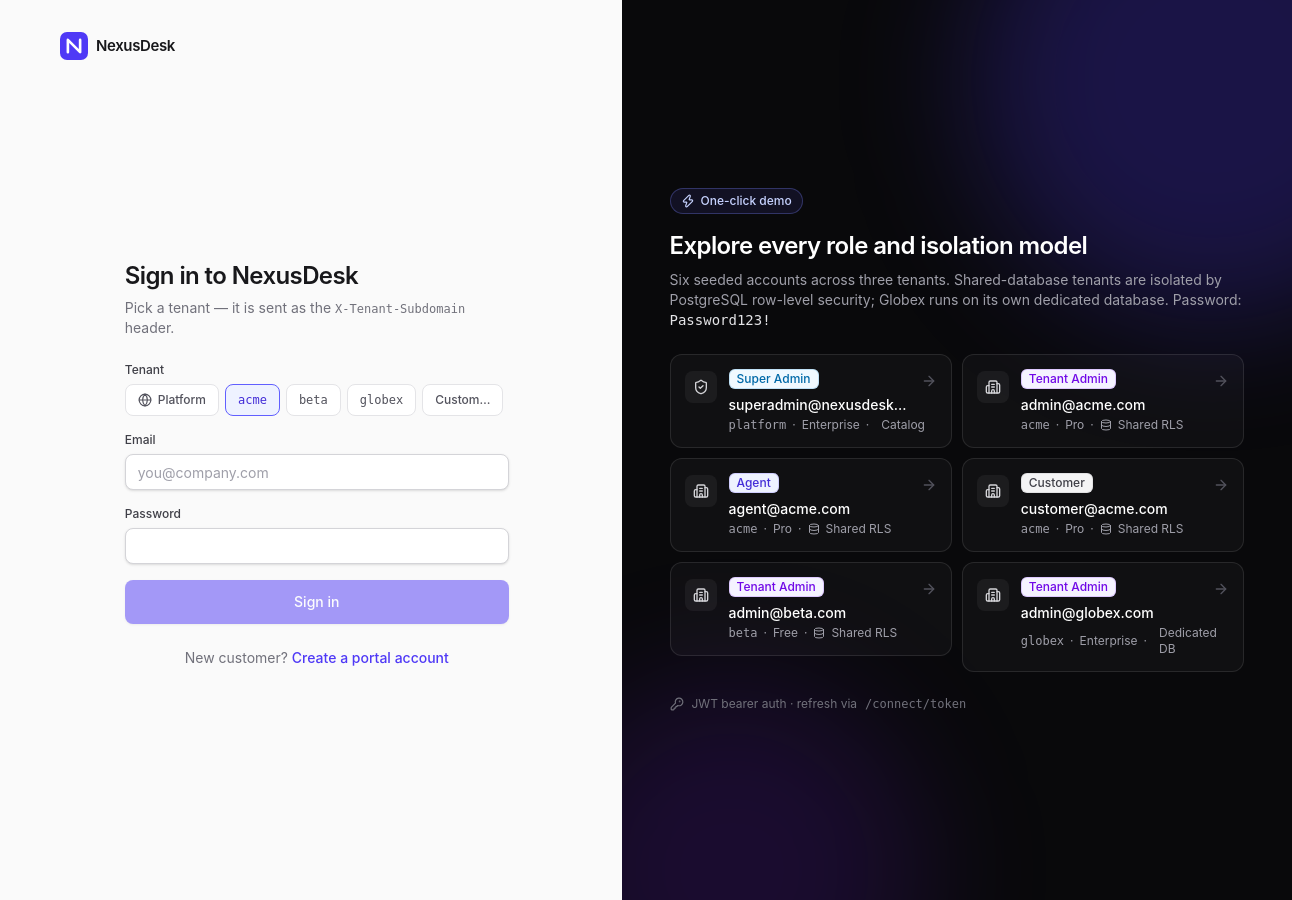
Test: Login flow › shows ProblemDetails inline when credentials are rejected
The image size is (1292, 900).
Type "admin@acme.com" into the field labelled "Email" at (317, 472), box [125,454,509,490]
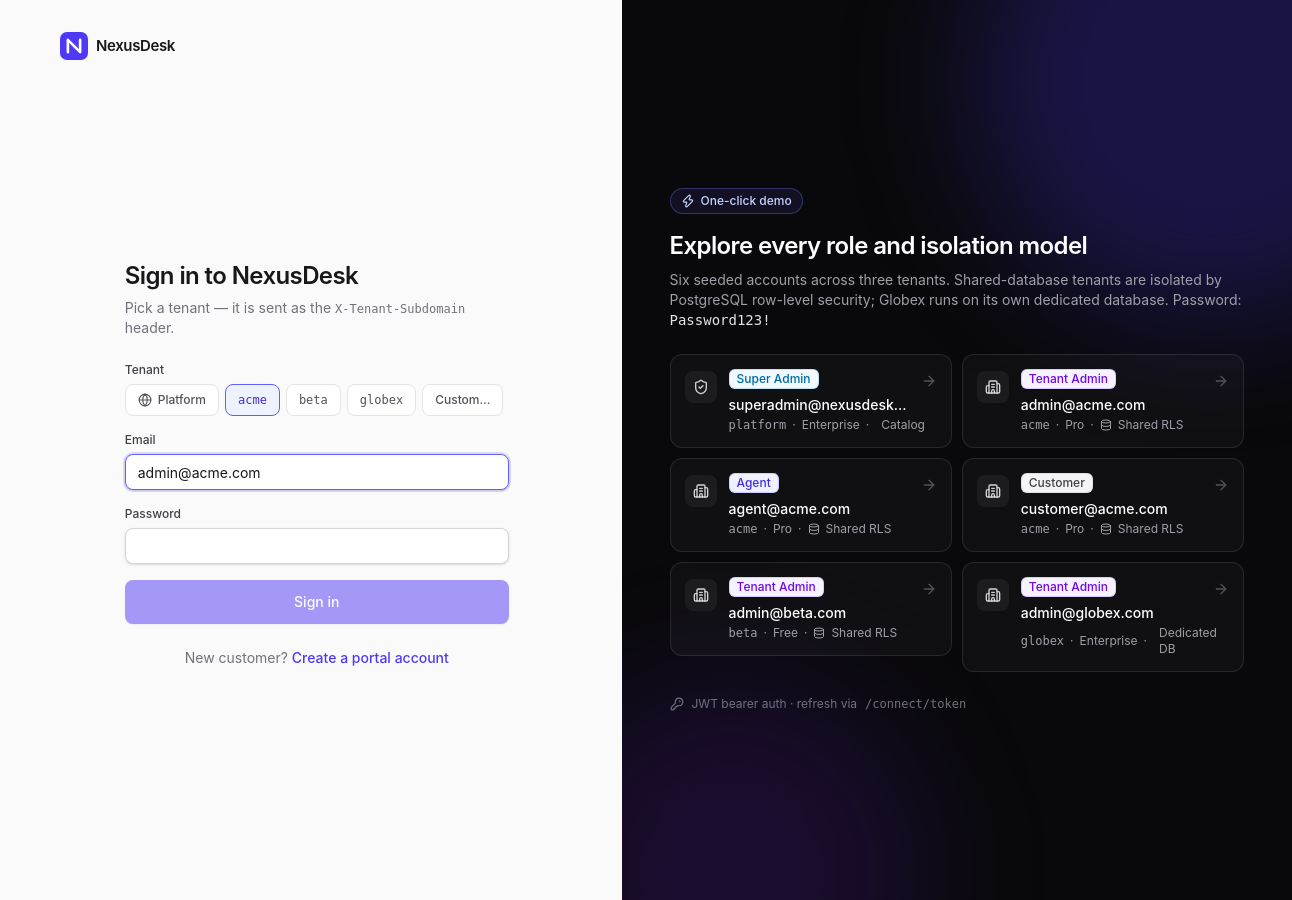
Type "wrong" into the password field labelled "Password" at (317, 546), box [125,528,509,564]
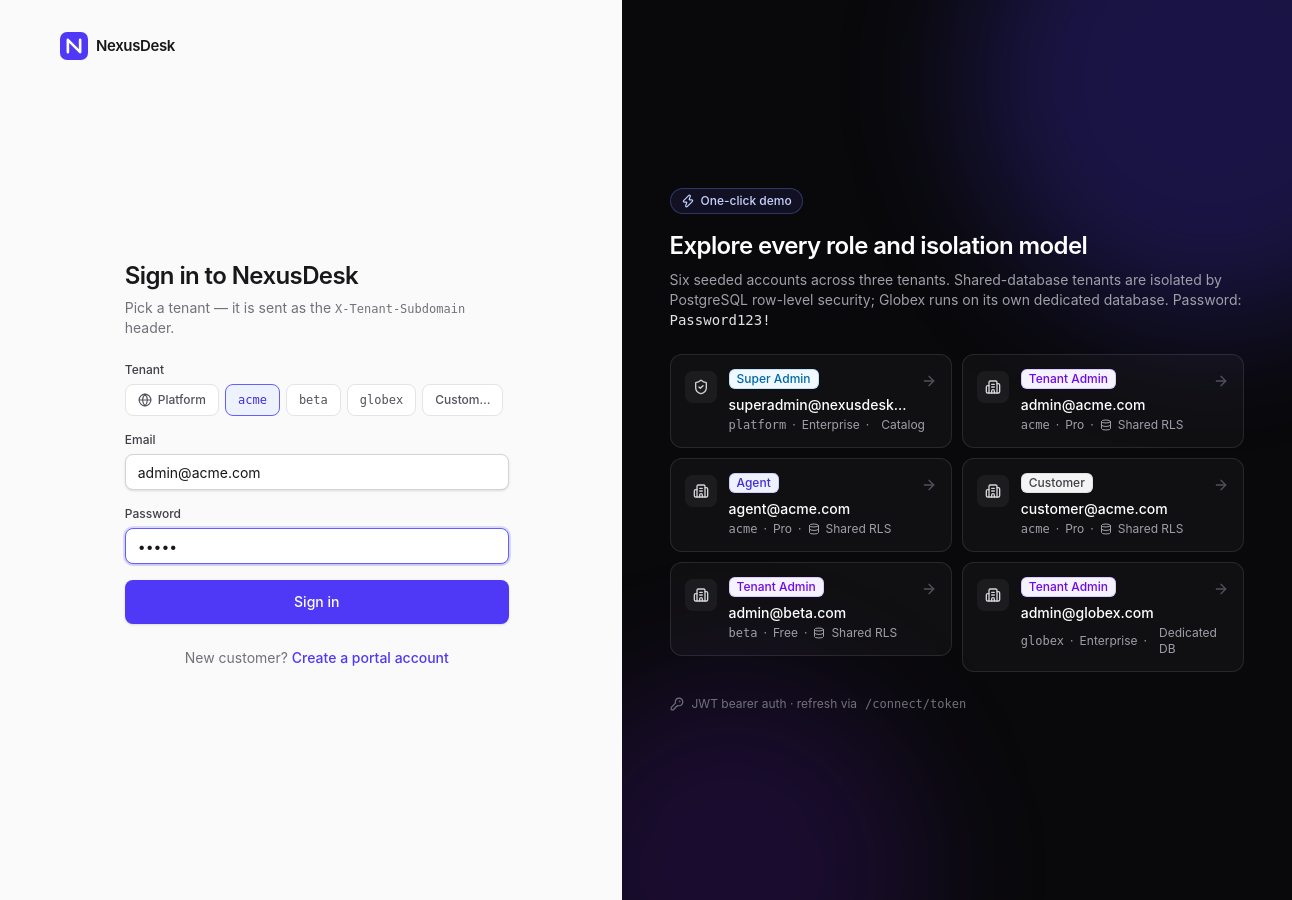
Click the button "Sign in" at (317, 602), box [125,580,509,624]
(page scrolled)
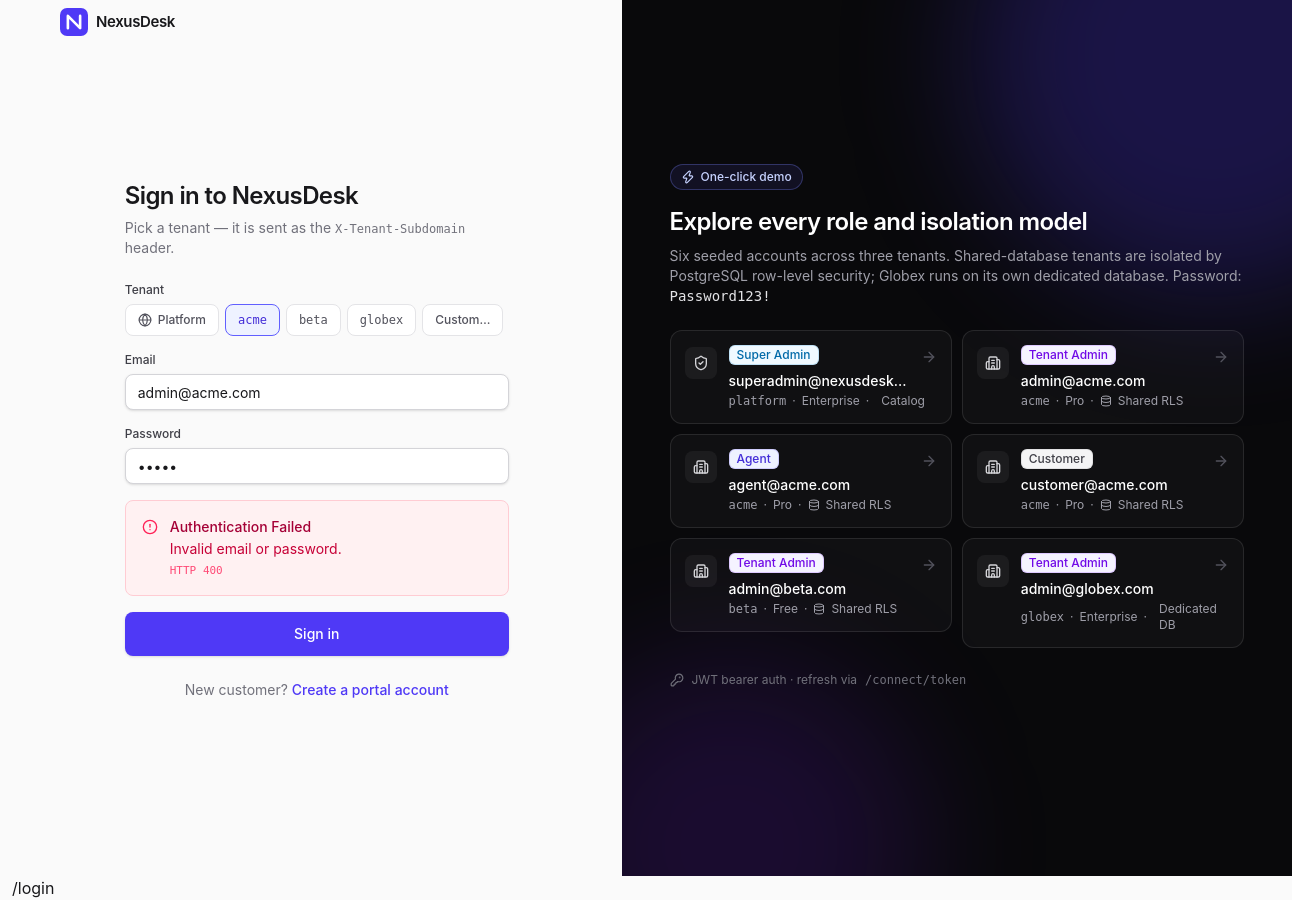
expect the text with test id "location" reads "/login": met, box [12,878,54,898]
expect the text "Authentication Failed" is shown: met, box [170,518,311,535]
expect the text "Invalid email or password." is shown: met, box [170,540,342,557]
